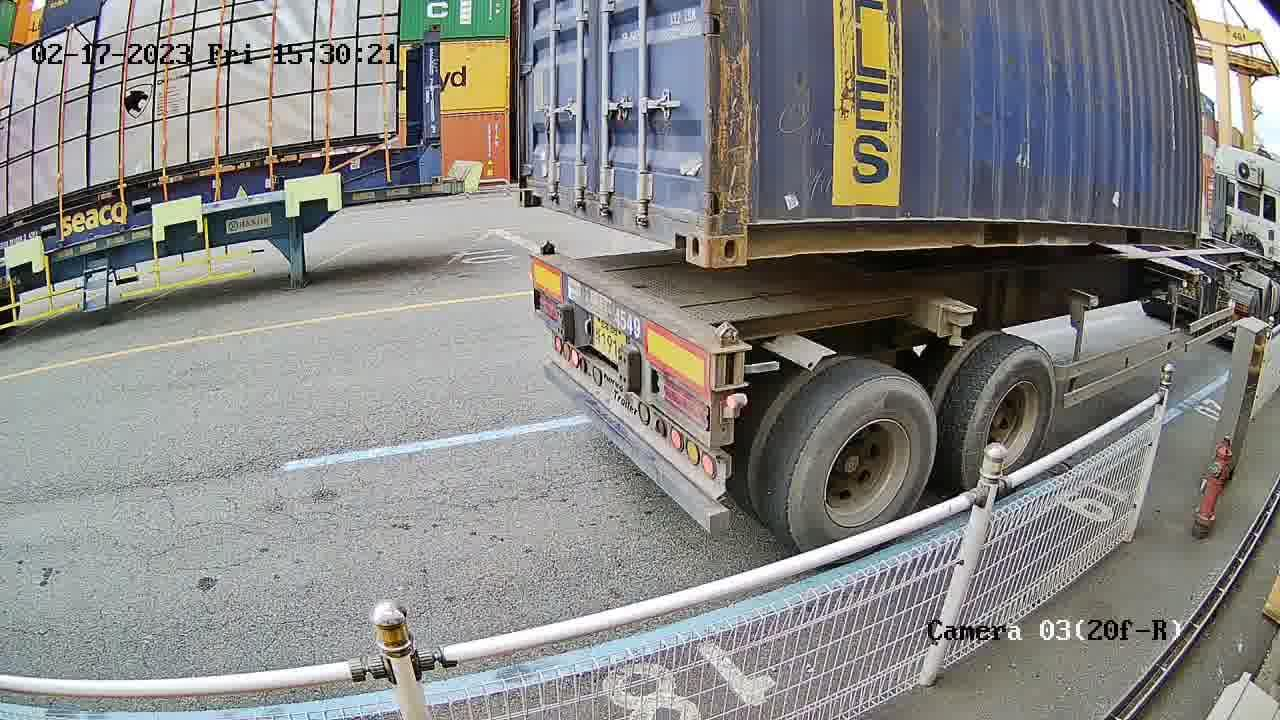Chassis: (533, 254, 746, 391)
Cone: (709, 319, 744, 389), (534, 239, 557, 258)
Hole_L: (709, 193, 781, 268), (517, 171, 545, 209)
Hole_R: (662, 190, 709, 268)
Tire: (787, 381, 937, 563), (963, 347, 1057, 503)
